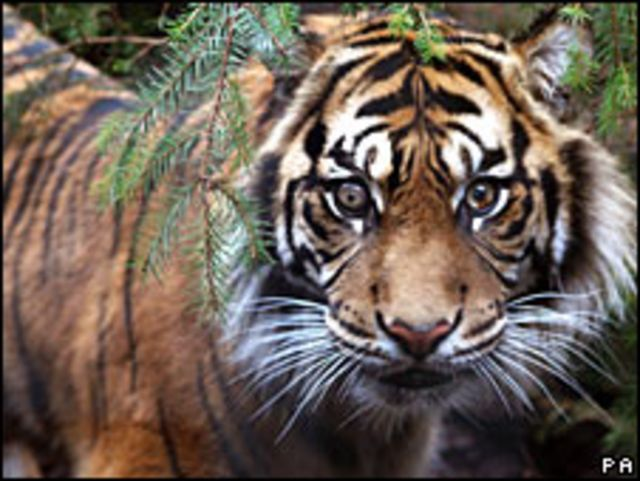Tigrew: (120, 19, 613, 446)
